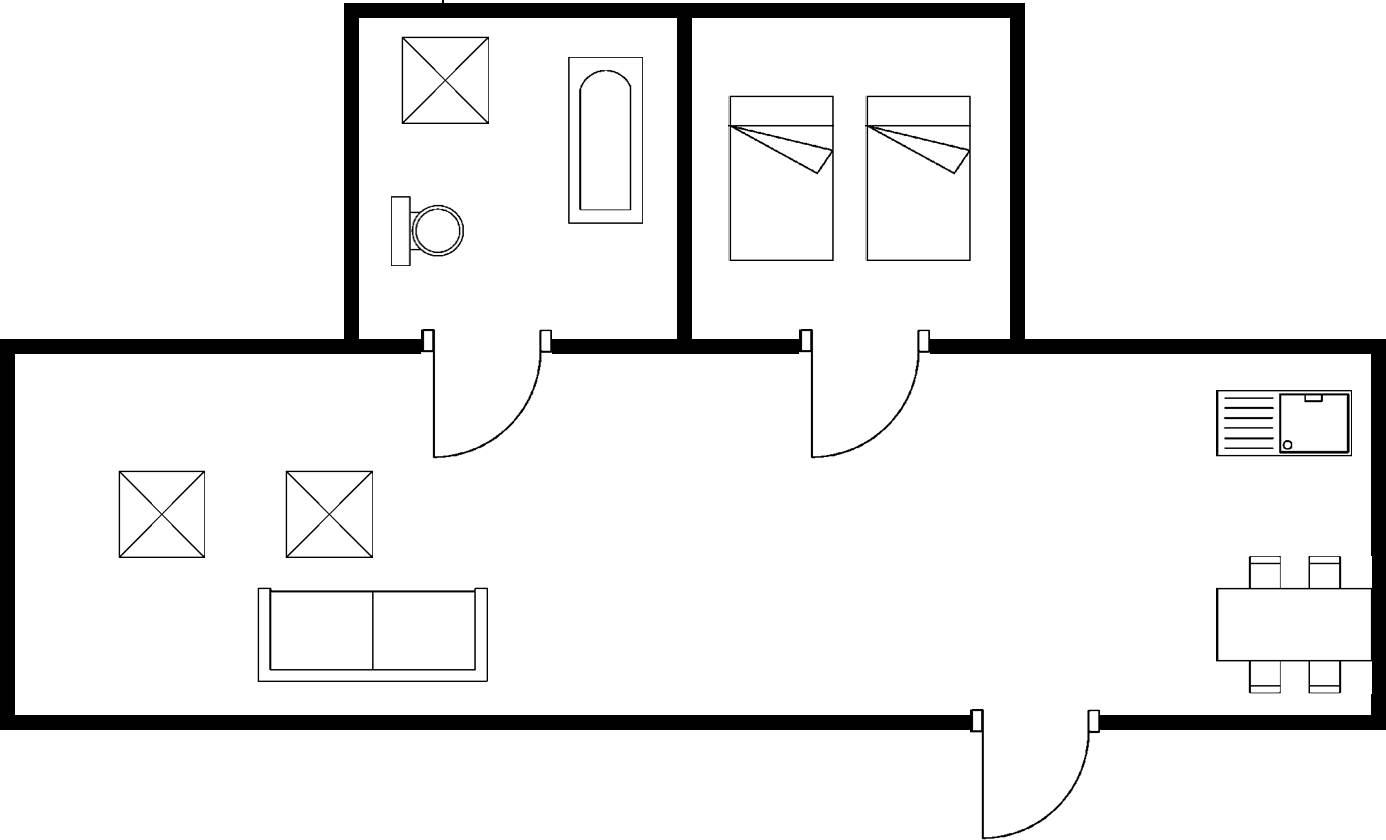bed: (861, 90, 978, 269), (725, 89, 841, 269)
coffee_table: (397, 31, 498, 132), (111, 465, 212, 566), (281, 466, 379, 566)
dining_table: (1208, 547, 1380, 701)
large_sink: (384, 192, 468, 275)
large_sofa: (252, 583, 496, 687)
sink: (1210, 381, 1356, 465)
tub: (561, 51, 648, 230)
